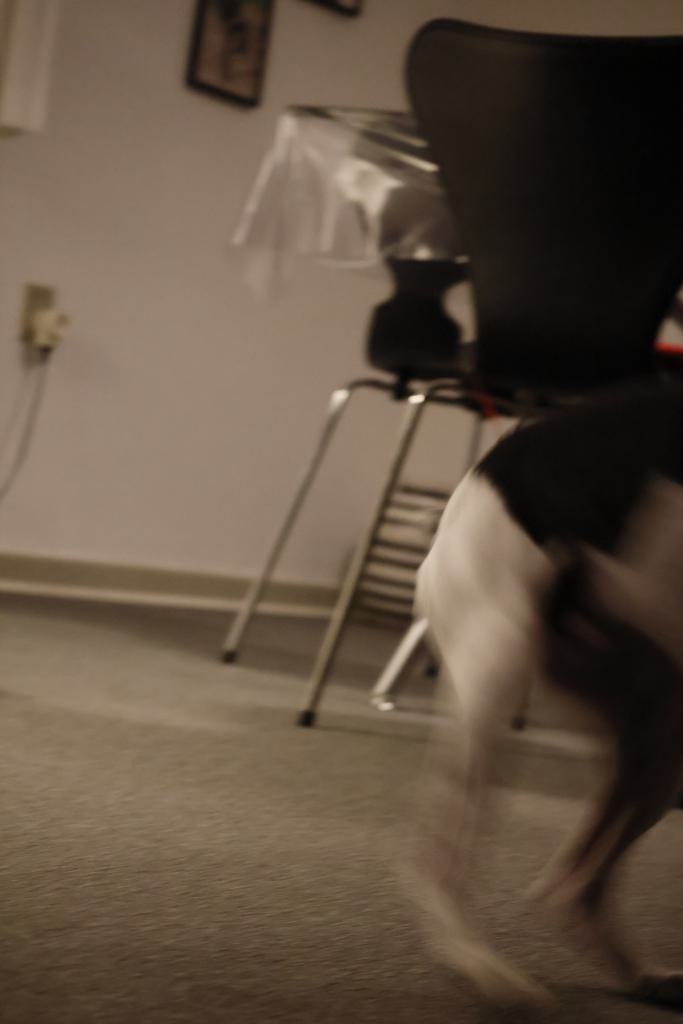Dog: (369, 347, 683, 1024)
